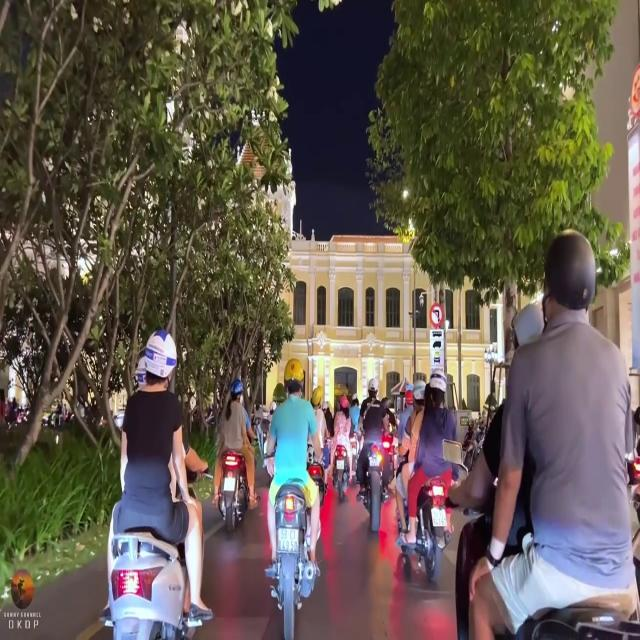bien_trang: (276, 525, 298, 556)
